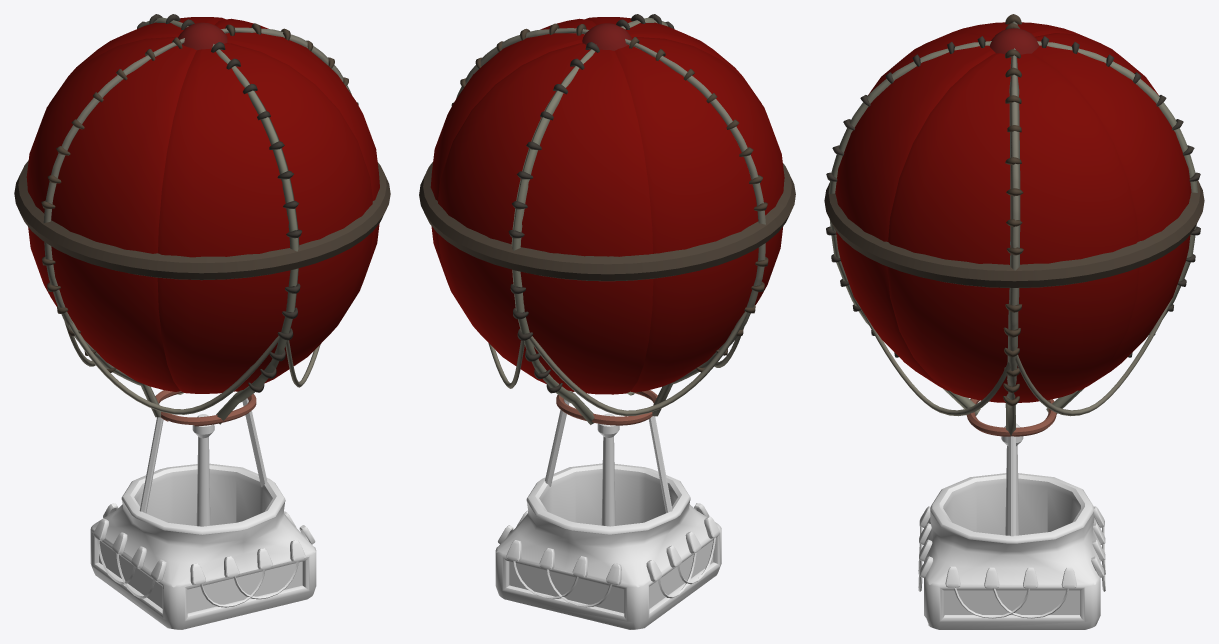
The model's file is nacelle.fbx.
The picture shows the model from 3 angles, left to right: view 1: azimuth 30°, elevation 25°; view 2: azimuth 150°, elevation 25°; view 3: azimuth 270°, elevation 25°; orthographic projection.
Parts seen in each view (by area): view 1: Line.002, Cube.002, BezierCurve, Line, Cube.001, Cube.003, Cube, Line.001; view 2: Line.002, Cube.002, BezierCurve, Line, Cube.001, Cube.003, Cube, Line.001; view 3: Line.002, Cube.002, BezierCurve, Line, Cube.003, Cube.001, Line.001, Cube.
Boxes of the visible parts, x1=… form: Line.002: x1=14, y1=17, x2=390, y2=393; Cube.002: x1=90, y1=414, x2=316, y2=629; BezierCurve: x1=43, y1=17, x2=351, y2=424; Line: x1=41, y1=14, x2=358, y2=392; Cube.001: x1=103, y1=503, x2=305, y2=607; Cube.003: x1=93, y1=511, x2=315, y2=598; Cube: x1=139, y1=398, x2=267, y2=513; Line.001: x1=155, y1=390, x2=256, y2=426; Line.002: x1=419, y1=17, x2=795, y2=394; Cube.002: x1=495, y1=413, x2=721, y2=629; BezierCurve: x1=456, y1=17, x2=765, y2=424; Line: x1=451, y1=14, x2=768, y2=393; Cube.001: x1=506, y1=503, x2=709, y2=607; Cube.003: x1=498, y1=510, x2=719, y2=598; Cube: x1=545, y1=391, x2=672, y2=512; Line.001: x1=556, y1=390, x2=657, y2=425; Line.002: x1=824, y1=22, x2=1204, y2=402; Cube.002: x1=924, y1=423, x2=1100, y2=629; BezierCurve: x1=828, y1=21, x2=1197, y2=435; Line: x1=826, y1=14, x2=1200, y2=406; Cube.003: x1=945, y1=566, x2=1076, y2=618; Cube.001: x1=918, y1=506, x2=1105, y2=591; Line.001: x1=966, y1=398, x2=1056, y2=436; Cube: x1=1008, y1=405, x2=1015, y2=536.
Bounding box in the file's own units: 850 × 1402 × 850.
